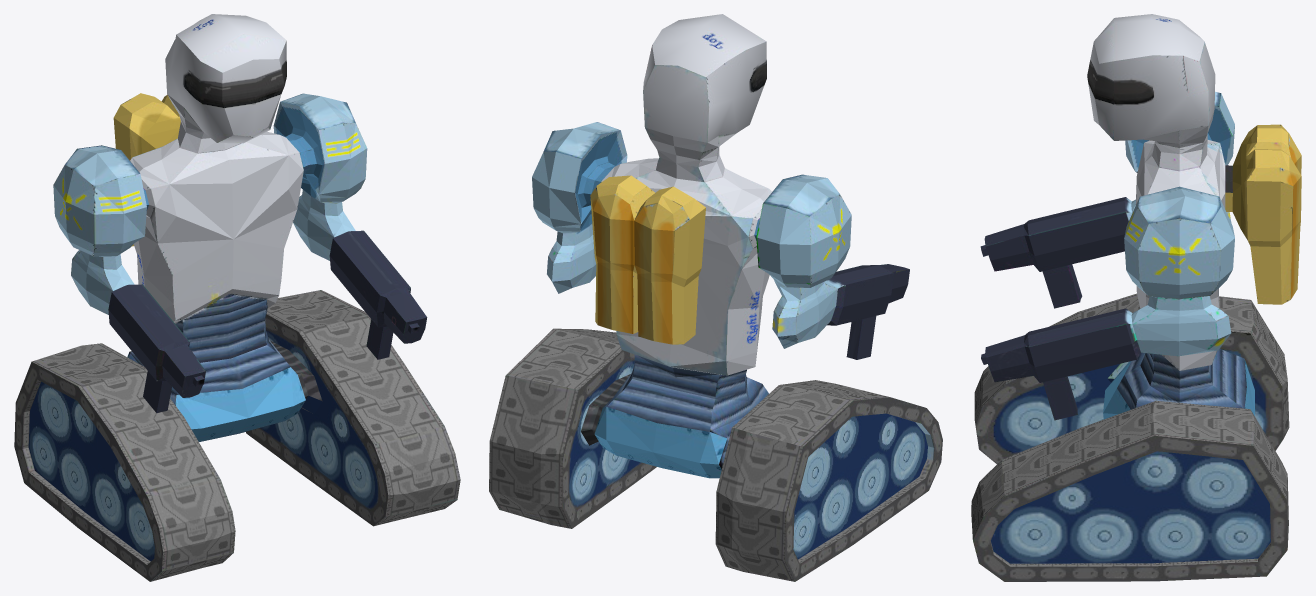
Rendered from hoverbot.FBX.
The picture shows the model from 3 angles, left to right: view 1: azimuth 30°, elevation 25°; view 2: azimuth 150°, elevation 25°; view 3: azimuth 270°, elevation 25°; orthographic projection. The views are drawn at different scales.
Visible parts, largest first — view 1: Box001; view 2: Box001; view 3: Box001.
Boxes of the visible parts, x1,y1,x2,y2 form: Box001: (14, 14, 460, 581); Box001: (489, 14, 942, 581); Box001: (971, 14, 1301, 581).
Size of the model in its own units: 100 by 153 by 93.83.
